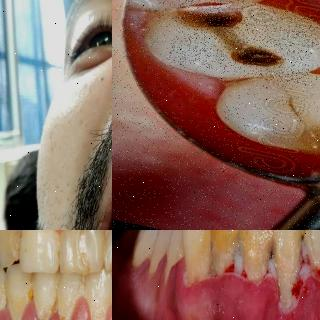Gum Swelling: (189, 275, 232, 300), (234, 277, 272, 305)
calculus: (272, 230, 302, 308), (241, 230, 271, 284), (186, 232, 212, 292), (211, 230, 241, 280), (300, 230, 320, 286)
cavities: (172, 0, 301, 76)
maligned: (0, 230, 18, 271), (0, 259, 7, 320)
plaque: (24, 275, 49, 320), (74, 270, 92, 314), (52, 276, 70, 320), (98, 272, 112, 320), (6, 290, 26, 320), (99, 230, 112, 260), (0, 281, 8, 320)
stains: (66, 230, 98, 274), (18, 266, 38, 312), (49, 275, 62, 320)
